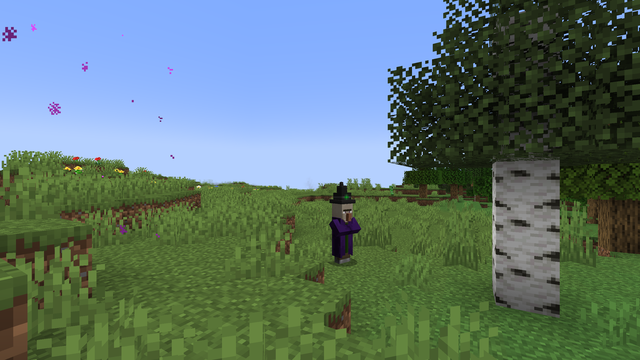creepers: (389, 185, 393, 195)
sorcieres: (329, 199, 353, 265)
